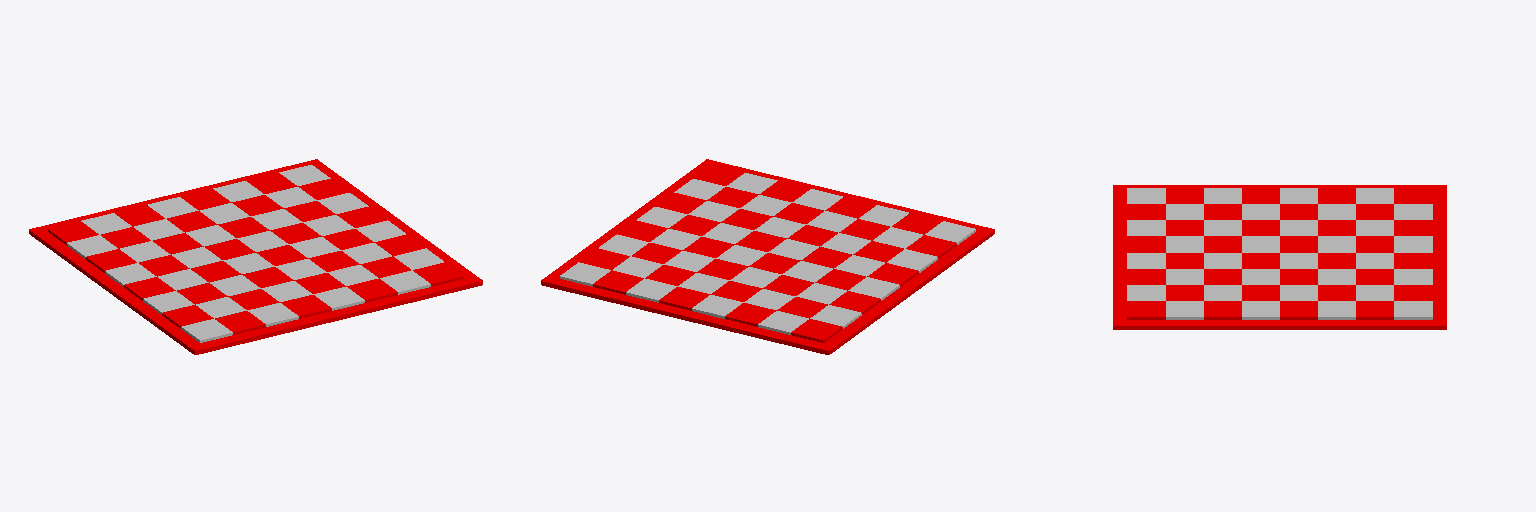
The model's file is board.obj.
3 renders of one model, left to right at view 1: azimuth 30°, elevation 25°; view 2: azimuth 150°, elevation 25°; view 3: azimuth 270°, elevation 25°, orthographic.
Visible parts, largest first — view 1: Cube.064, Cube.056, Cube.062, Cube.063, Cube.058, Cube.059, Cube.057, Cube.060, Cube.061, Cube.007, Cube.008, Cube.040 (+28 smaller); view 2: Cube.064, Cube.023, Cube.016, Cube.017, Cube.020, Cube.021, Cube.018, Cube.019, Cube.022, Cube.007, Cube.039, Cube.040 (+28 smaller); view 3: Cube.064, Cube.018, Cube.061, Cube.002, Cube.013, Cube.029, Cube.034, Cube.045, Cube.050, Cube.021, Cube.058, Cube.005 (+28 smaller).
Part boxes in pixels (bbox=[...]): Cube.064: bbox=[29, 159, 482, 354]; Cube.056: bbox=[181, 319, 232, 342]; Cube.062: bbox=[346, 278, 397, 302]; Cube.063: bbox=[313, 287, 364, 310]; Cube.058: bbox=[280, 295, 331, 318]; Cube.059: bbox=[247, 303, 298, 326]; Cube.057: bbox=[215, 311, 265, 334]; Cube.060: bbox=[380, 270, 430, 294]; Cube.061: bbox=[413, 262, 463, 286]; Cube.007: bbox=[105, 263, 156, 286]; Cube.008: bbox=[86, 249, 136, 272]; Cube.040: bbox=[124, 277, 175, 300]; Cube.064: bbox=[541, 159, 994, 354]; Cube.023: bbox=[791, 319, 842, 342]; Cube.016: bbox=[659, 287, 710, 310]; Cube.017: bbox=[626, 278, 677, 302]; Cube.020: bbox=[725, 303, 776, 326]; Cube.021: bbox=[692, 295, 743, 318]; Cube.018: bbox=[560, 262, 610, 286]; Cube.019: bbox=[593, 270, 643, 294]; Cube.022: bbox=[758, 311, 808, 334]; Cube.007: bbox=[848, 277, 899, 300]; Cube.039: bbox=[887, 249, 937, 272]; Cube.040: bbox=[867, 263, 918, 286]; Cube.064: bbox=[1113, 185, 1446, 329]; Cube.018: bbox=[1394, 301, 1432, 319]; Cube.061: bbox=[1127, 301, 1165, 319]; Cube.002: bbox=[1280, 301, 1317, 319]; Cube.013: bbox=[1318, 301, 1355, 319]; Cube.029: bbox=[1356, 301, 1393, 319]; Cube.034: bbox=[1204, 301, 1241, 319]; Cube.045: bbox=[1242, 301, 1279, 319]; Cube.050: bbox=[1166, 301, 1203, 319]; Cube.021: bbox=[1394, 236, 1432, 252]; Cube.058: bbox=[1127, 236, 1165, 252]; Cube.005: bbox=[1280, 236, 1317, 252].
Size of the model in its own units: 17.46 by 0.3978 by 17.46.